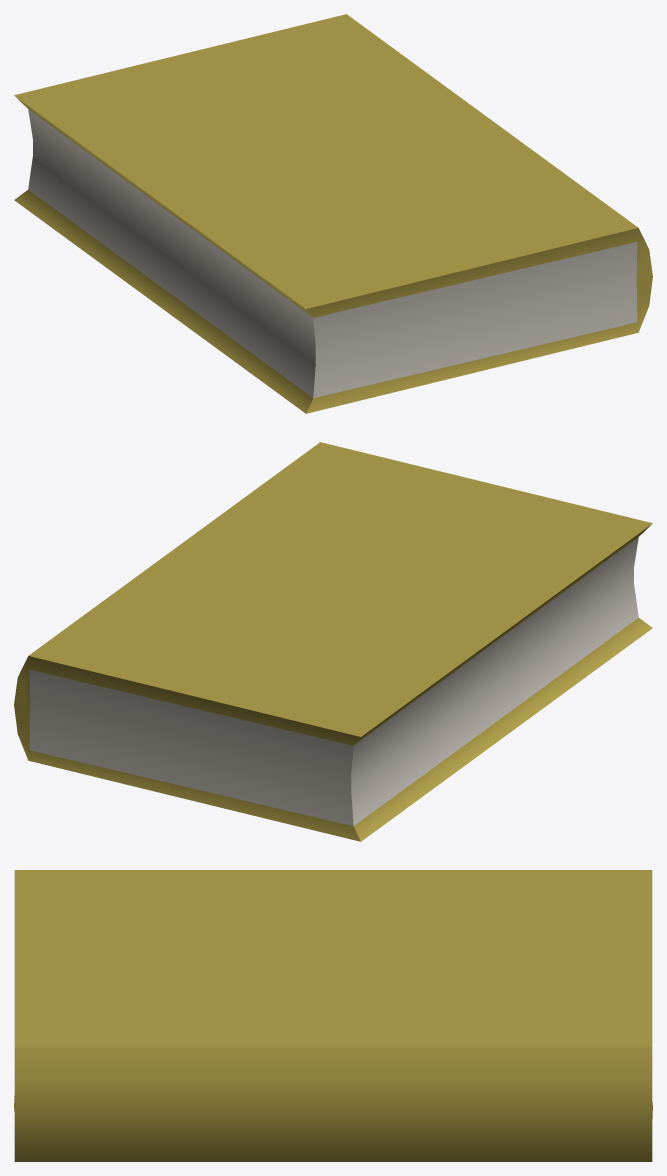
The model's file is Book1.fbx.
3 renders of one model, top to bottom at view 1: azimuth 30°, elevation 25°; view 2: azimuth 150°, elevation 25°; view 3: azimuth 270°, elevation 25°, orthographic. The views are drawn at different scales.
Parts seen in each view (by area): view 1: pCube3; view 2: pCube3; view 3: pCube3.
Part boxes in pixels (<box>): pCube3: <box>14,14,652,413</box>; pCube3: <box>14,442,652,841</box>; pCube3: <box>14,870,652,1161</box>.
Size of the model in its own units: 8.11 by 2.34 by 11.84.
